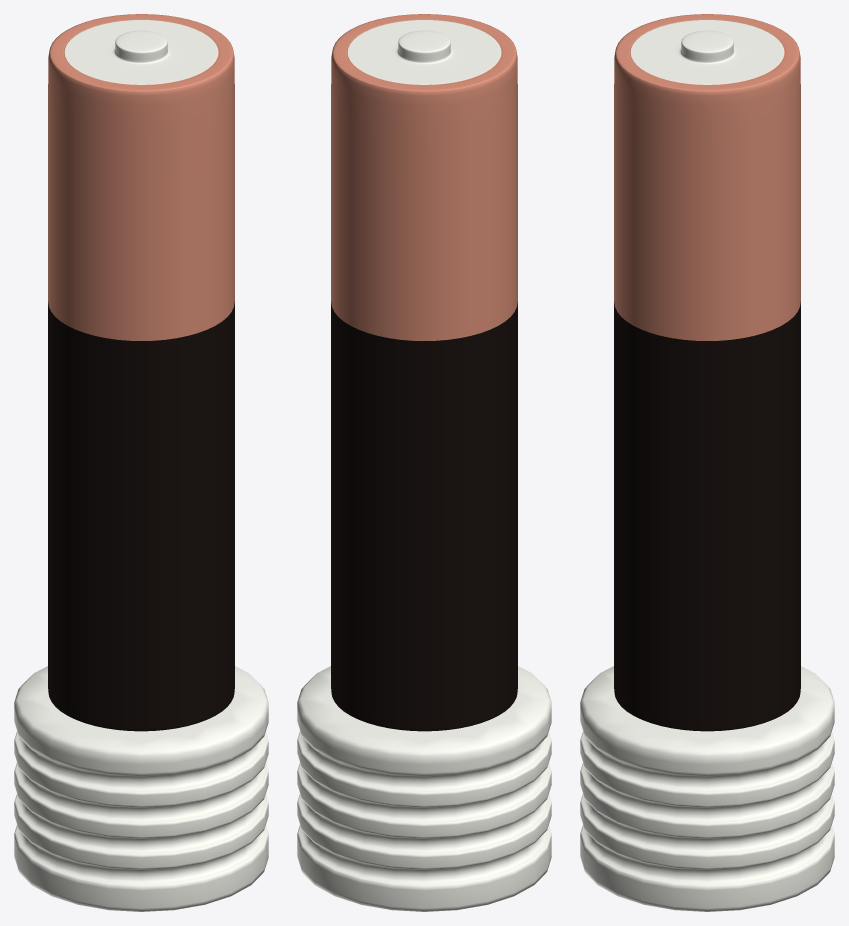
The model's file is batterybase.fbx.
3 renders of one model, left to right at view 1: azimuth 30°, elevation 25°; view 2: azimuth 150°, elevation 25°; view 3: azimuth 270°, elevation 25°, orthographic.
Parts seen in each view (by area): view 1: pilha, Cylinder; view 2: pilha, Cylinder; view 3: pilha, Cylinder.
Part boxes in pixels (bbox=[...]): pilha: bbox=[48, 14, 234, 731]; Cylinder: bbox=[14, 666, 268, 911]; pilha: bbox=[331, 14, 517, 731]; Cylinder: bbox=[297, 666, 551, 911]; pilha: bbox=[614, 14, 800, 731]; Cylinder: bbox=[580, 666, 834, 911].
Size of the model in its own units: 43 by 152 by 43.
